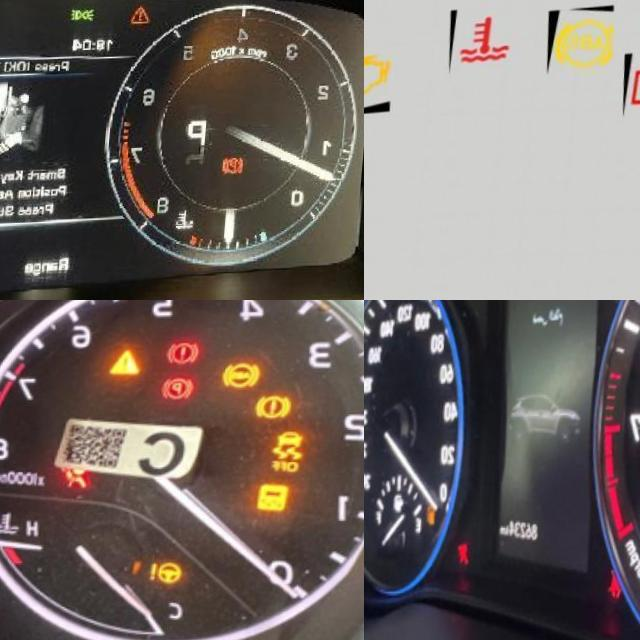Engine cooling system: (181, 211, 205, 235)
